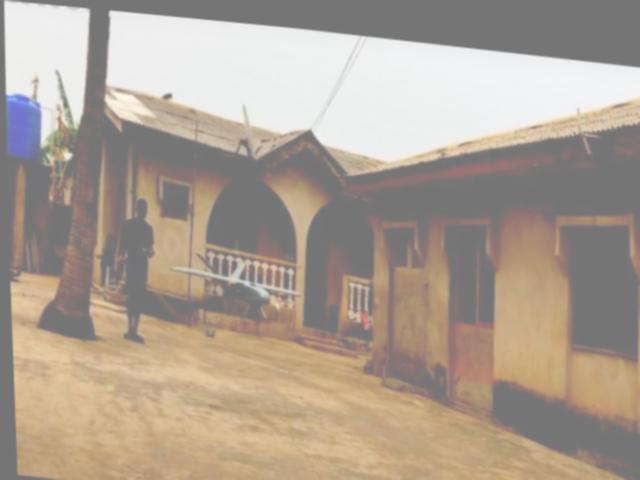iha: (161, 244, 306, 323)
